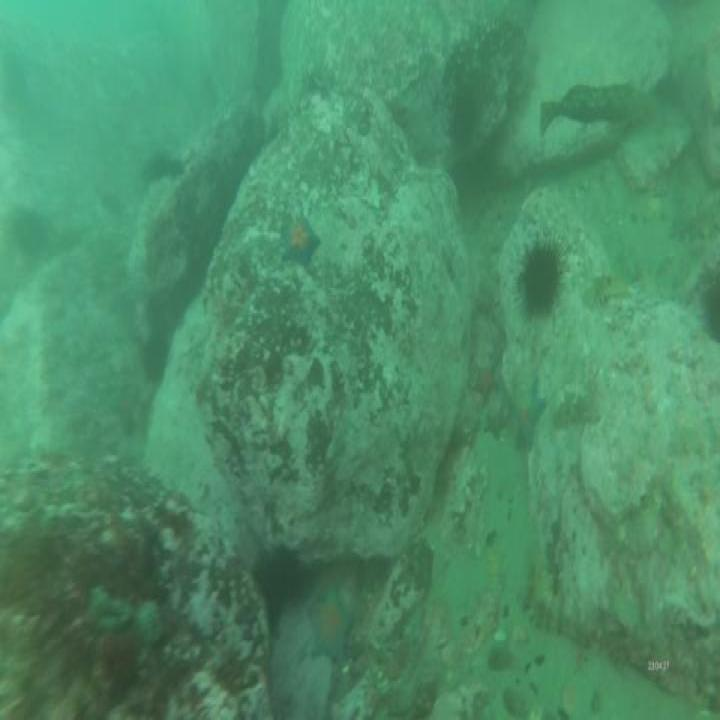echinus: (261, 553, 303, 615), (522, 247, 556, 315)
starfish: (309, 592, 354, 656), (512, 380, 543, 454), (283, 215, 319, 269), (561, 670, 593, 720)
